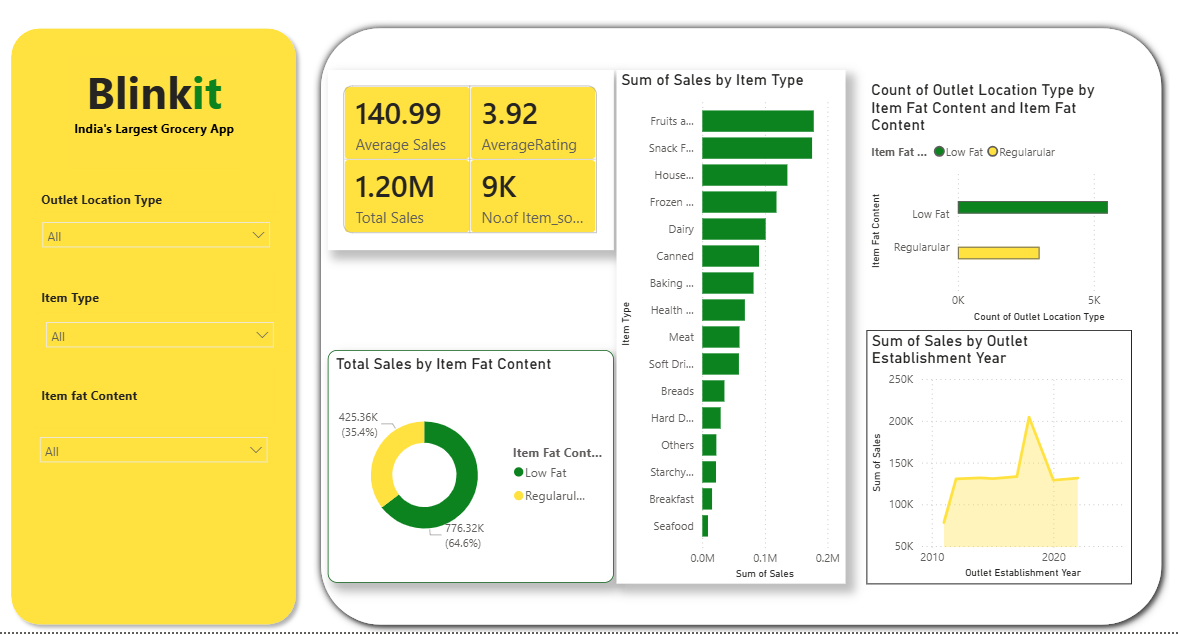

What the dashboard file says about the page in this screenshot:
{"tool":"powerbi","page":{"name":"Page 1","canvas":[1280,720],"ordinal":0},"visuals":[{"type":"shape","box":[9.6,59,325.2,661.4],"z":0},{"type":"textbox","box":[79.6,98.8,186.6,120.8],"z":1000},{"type":"shape","box":[344.4,59,924.9,661.4],"z":2000},{"type":"cardVisual","fields":{"Data":["BlinkIT Grocery Data.Average Sales","BlinkIT Grocery Data.AverageRating","BlinkIT Grocery Data.Measure","BlinkIT Grocery Data.No.of Item_sold"]},"box":[360.2,113.3,308.9,194.3],"z":3000},{"type":"donutChart","fields":{"Category":["BlinkIT Grocery Data.Item Fat Content"],"Y":["BlinkIT Grocery Data.Total Sales"]},"box":[360.2,415.5,308.9,250.9],"z":4000},{"type":"clusteredBarChart","fields":{"Category":["BlinkIT Grocery Data.Item Type"],"Y":["Sum(BlinkIT Grocery Data.Sales)"]},"box":[671.8,113.3,246.9,554.5],"z":5000},{"type":"clusteredBarChart","fields":{"Category":["BlinkIT Grocery Data.Item Fat Content"],"Series":["BlinkIT Grocery Data.Item Fat Content"],"Y":["CountNonNull(BlinkIT Grocery Data.Outlet Location Type)"]},"box":[941.3,123.5,286.8,266.2],"z":6000},{"type":"lineChart","fields":{"Category":["BlinkIT Grocery Data.Outlet Establishment Year"],"Y":["Sum(BlinkIT Grocery Data.Sales)"]},"box":[941.3,393.8,286.8,274.4],"z":7000},{"type":"textbox","box":[45.3,238.8,256.6,301.9],"z":8000},{"type":"slicer","fields":{"Values":["BlinkIT Grocery Data.Outlet Location Type"]},"box":[41.2,267.6,266.2,59],"z":9000},{"type":"slicer","fields":{"Values":["BlinkIT Grocery Data.Item Type"]},"box":[45.3,374.6,266.2,59],"z":10000},{"type":"slicer","fields":{"Values":["BlinkIT Grocery Data.Item Fat Content"]},"box":[39.8,499.5,266.2,59],"z":11000}]}

Visuals, with their boxes in screenshot pixels (x1, y1, x2, y2):
shape: 24 26 318 623
textbox: 87 62 256 171
shape: 326 26 1161 623
cardVisual - BlinkIT Grocery Data.Average Sales x BlinkIT Grocery Data.AverageRating: 340 75 619 250
donutChart - BlinkIT Grocery Data.Item Fat Content x BlinkIT Grocery Data.Total Sales: 340 347 619 574
clusteredBarChart - BlinkIT Grocery Data.Item Type x Sum(BlinkIT Grocery Data.Sales): 622 75 844 575
clusteredBarChart - BlinkIT Grocery Data.Item Fat Content x BlinkIT Grocery Data.Item Fat Content: 865 84 1124 324
lineChart - BlinkIT Grocery Data.Outlet Establishment Year x Sum(BlinkIT Grocery Data.Sales): 865 328 1124 575
textbox: 56 188 288 460
slicer - BlinkIT Grocery Data.Outlet Location Type: 53 214 293 267
slicer - BlinkIT Grocery Data.Item Type: 56 310 296 364
slicer - BlinkIT Grocery Data.Item Fat Content: 51 423 292 476
